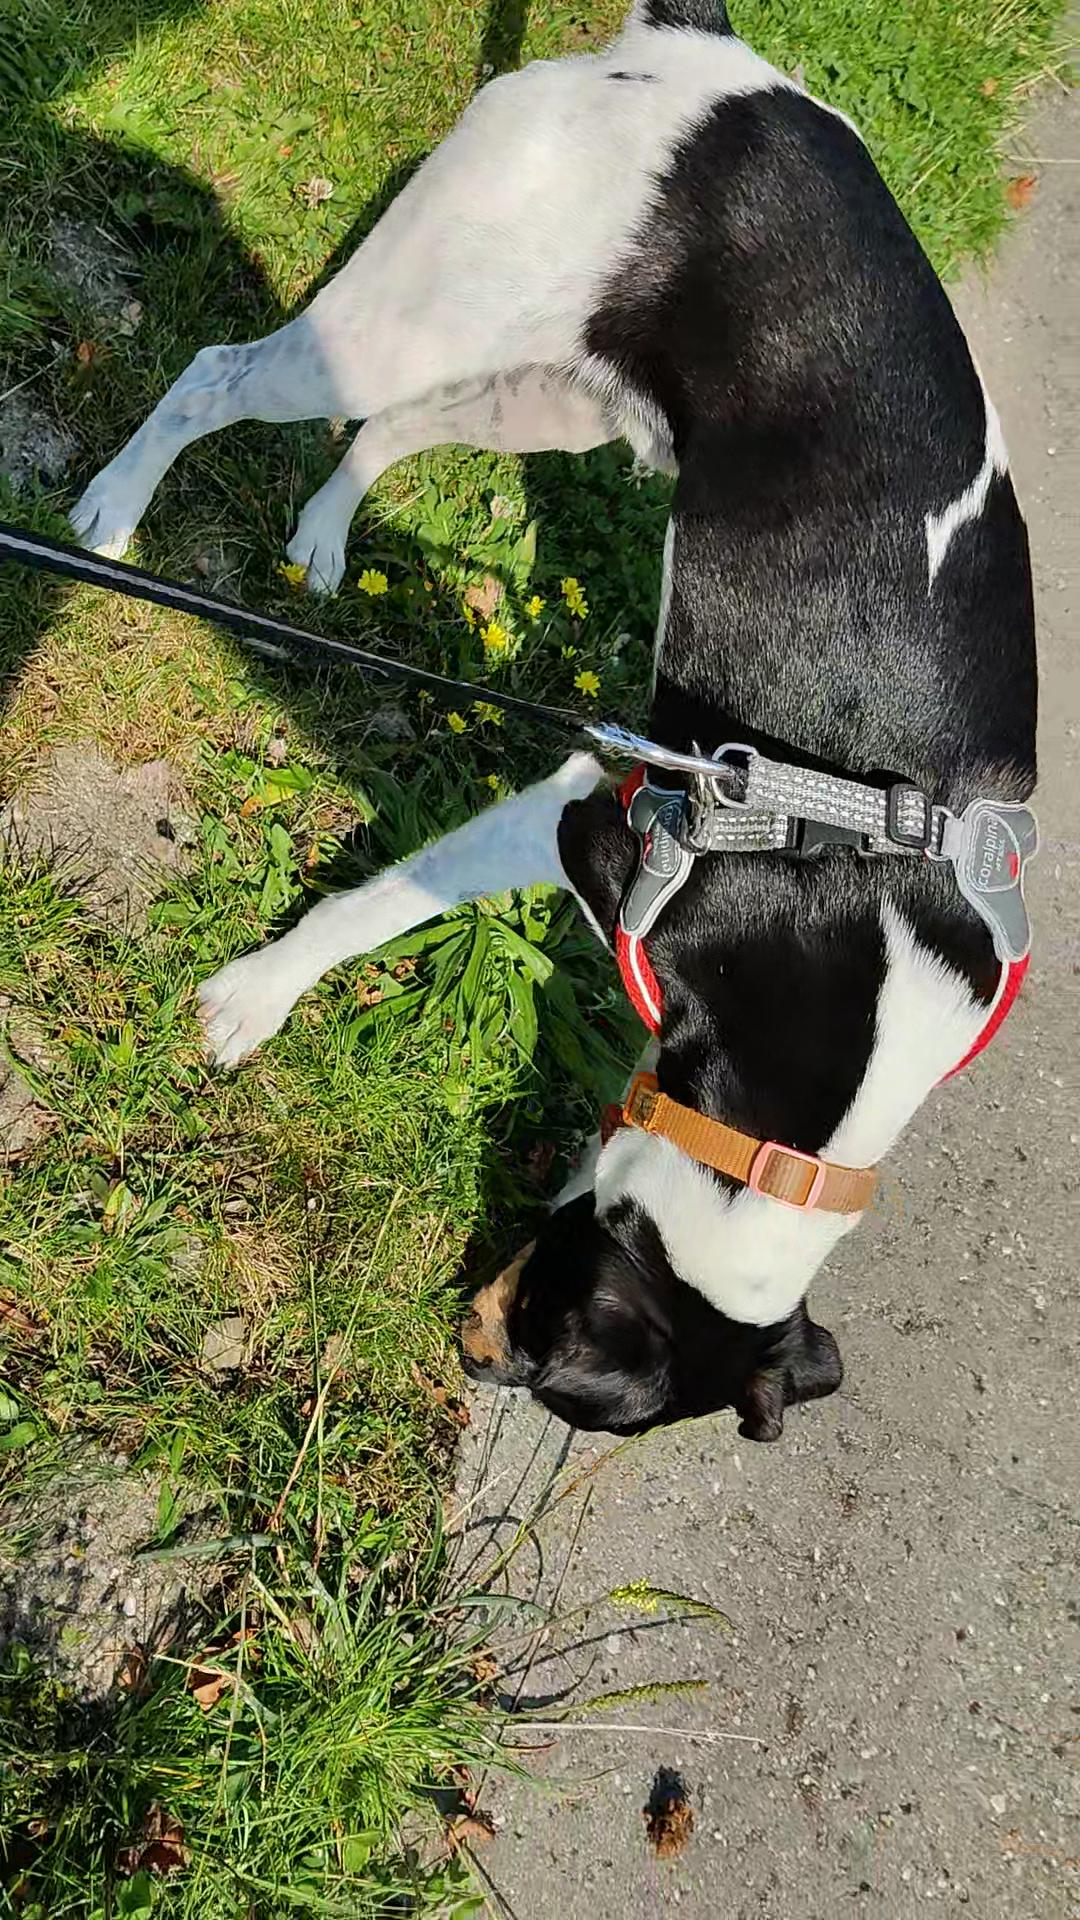Dog: (58, 0, 1052, 1453)
